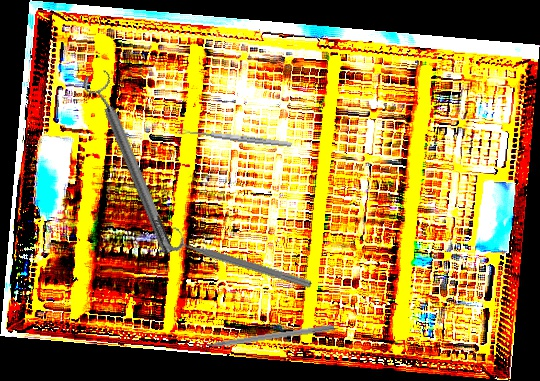Fixation Ring: (80, 67, 182, 260), (159, 223, 317, 293)
Pusher: (188, 322, 335, 352)
Surgical Spoon: (177, 127, 292, 148)
